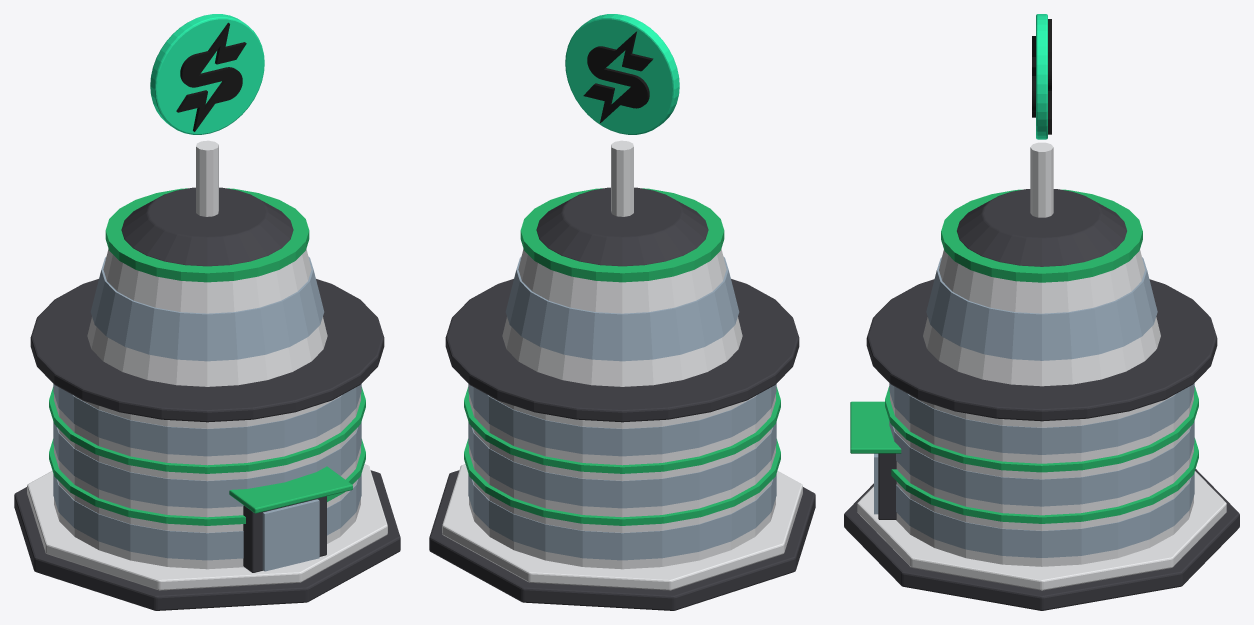
3 renders of one model, left to right at view 1: azimuth 30°, elevation 25°; view 2: azimuth 150°, elevation 25°; view 3: azimuth 270°, elevation 25°, orthographic.
Visible parts, largest first — view 1: hq_tower, spin_logo; view 2: hq_tower, spin_logo; view 3: hq_tower, spin_logo.
Part boxes in pixels (<box>): hq_tower: <box>14,140,400,610</box>; spin_logo: <box>150,14,264,134</box>; hq_tower: <box>429,140,815,610</box>; spin_logo: <box>565,14,679,134</box>; hq_tower: <box>844,142,1239,610</box>; spin_logo: <box>1032,14,1051,139</box>.
Size of the model in its own units: 11.97 by 16.96 by 11.97.
